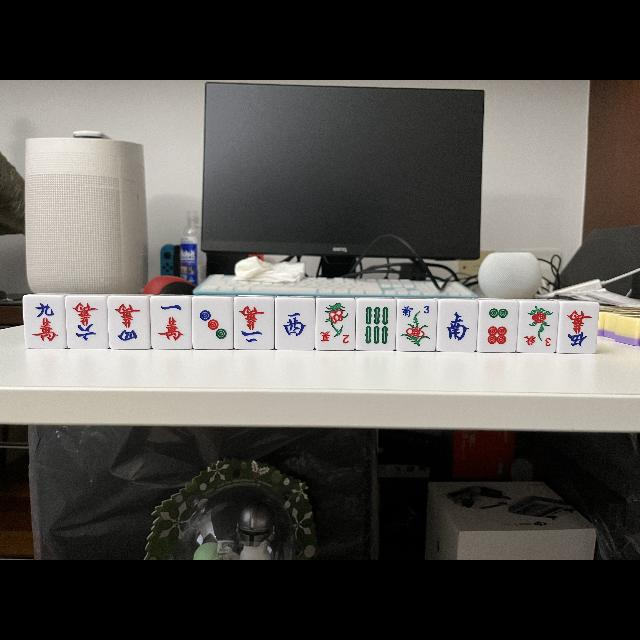b6: (356, 300, 396, 350)
c1: (150, 296, 192, 348)
c2: (234, 297, 274, 348)
c4: (109, 296, 150, 348)
c5: (560, 302, 598, 353)
c6: (65, 296, 108, 348)
c9: (23, 296, 67, 348)
d3: (192, 297, 234, 349)
d6: (478, 301, 516, 353)
f3: (396, 300, 436, 320)
s2: (316, 328, 354, 350)
s3: (517, 332, 557, 352)
ws: (438, 300, 477, 352)
ww: (276, 297, 314, 349)
